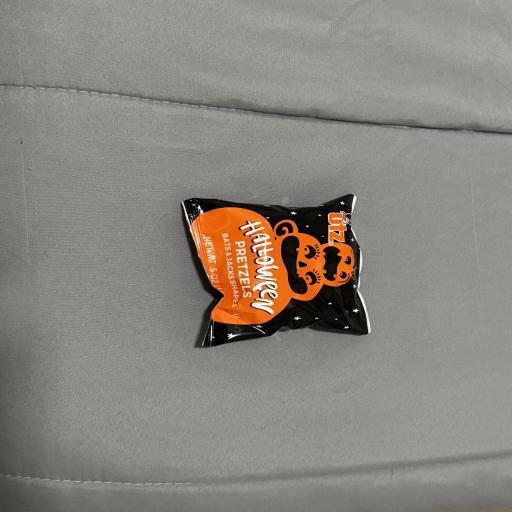chocolate: (183, 195, 370, 345)
